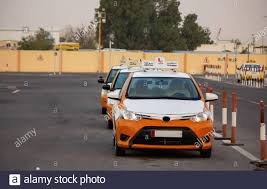car: (113, 71, 215, 156)
